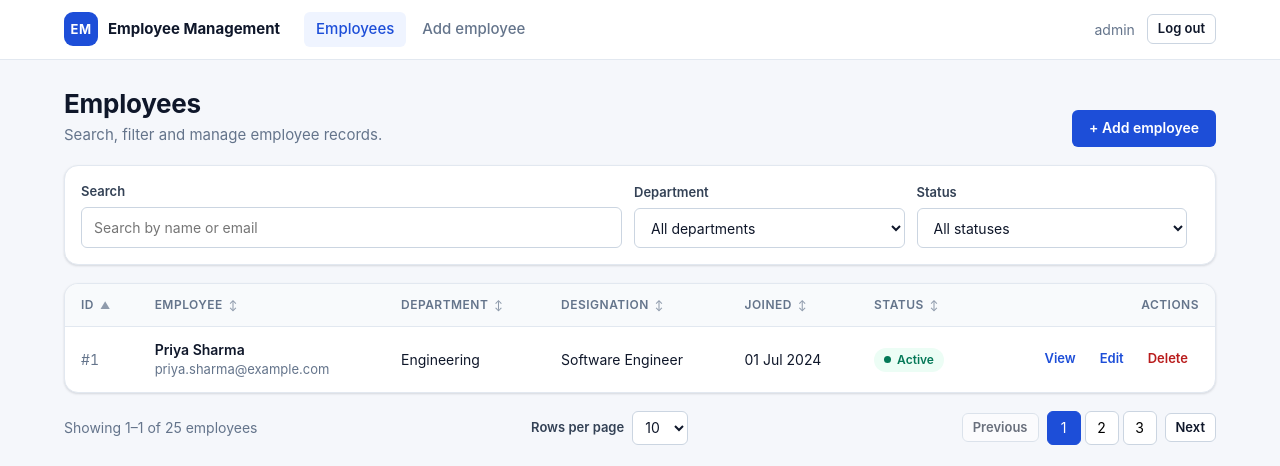
Test case: EmployeeListPage › moves between pages with the pagination controls
expect the text "Showing 1–1 of 25 employees" is shown: met, box [64,417,258,438]
expect the button "Previous" is disabled: met, box [962,413,1038,442]
What coordinates should you click on to do the following:
click the button "Next"
I would click on:
 (1190, 428)
Its box is [1164,413,1216,442].
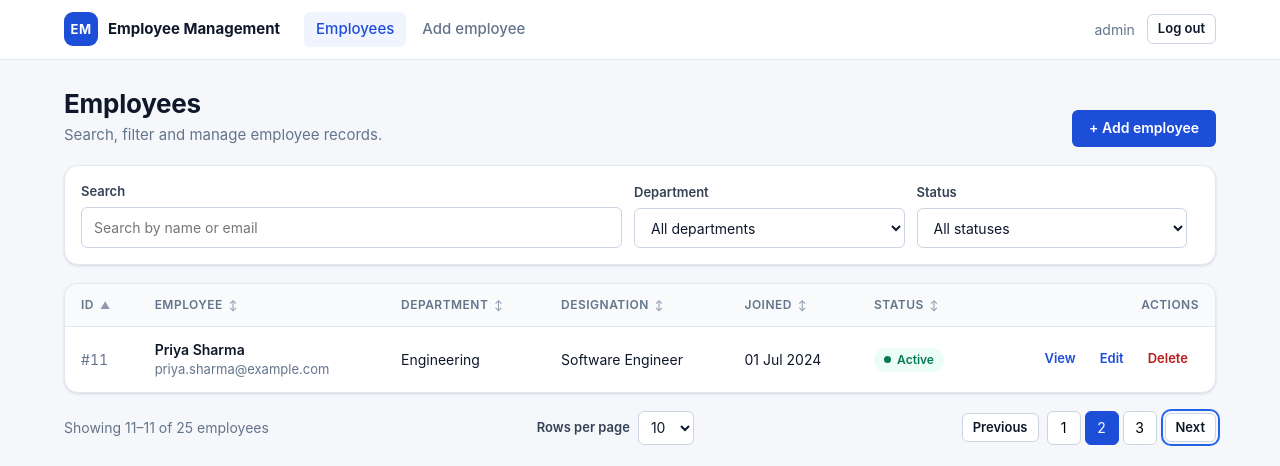
expect the button named "Page 2" is marked as current: met, box [1084,410,1118,444]
What coordinates should you click on to do the following:
click the button named "Page 3"
I would click on:
 (1140, 428)
Its box is [1122,410,1156,444].
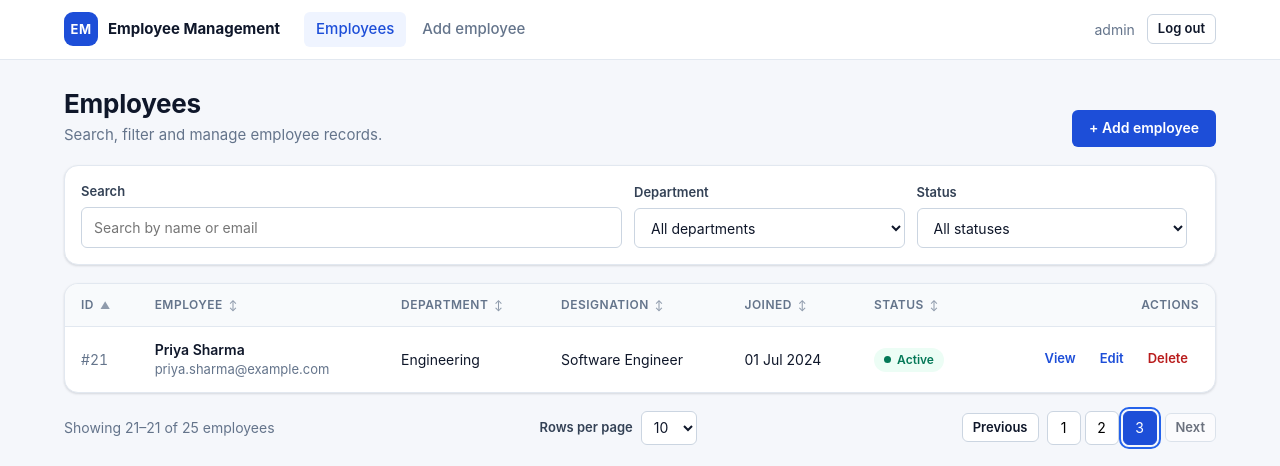
expect the button "Next" is disabled: met, box [1164,413,1216,442]
